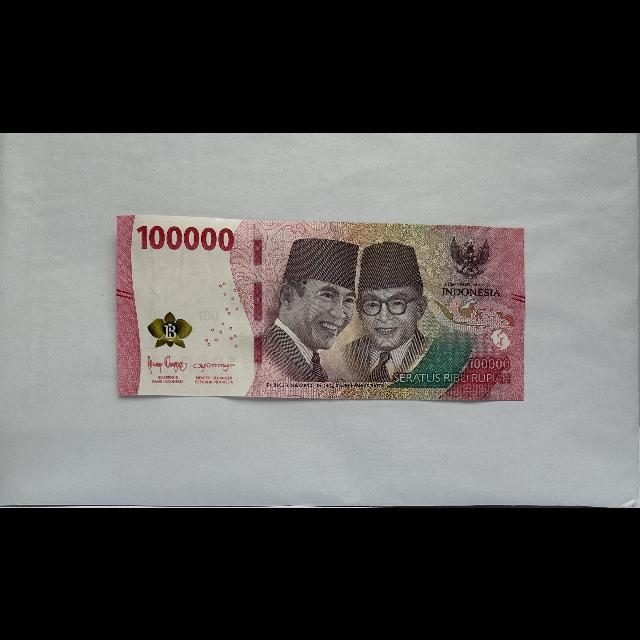Asli-100k: (115, 213, 525, 402)
Tinta-Asli-100k: (147, 310, 194, 349)
